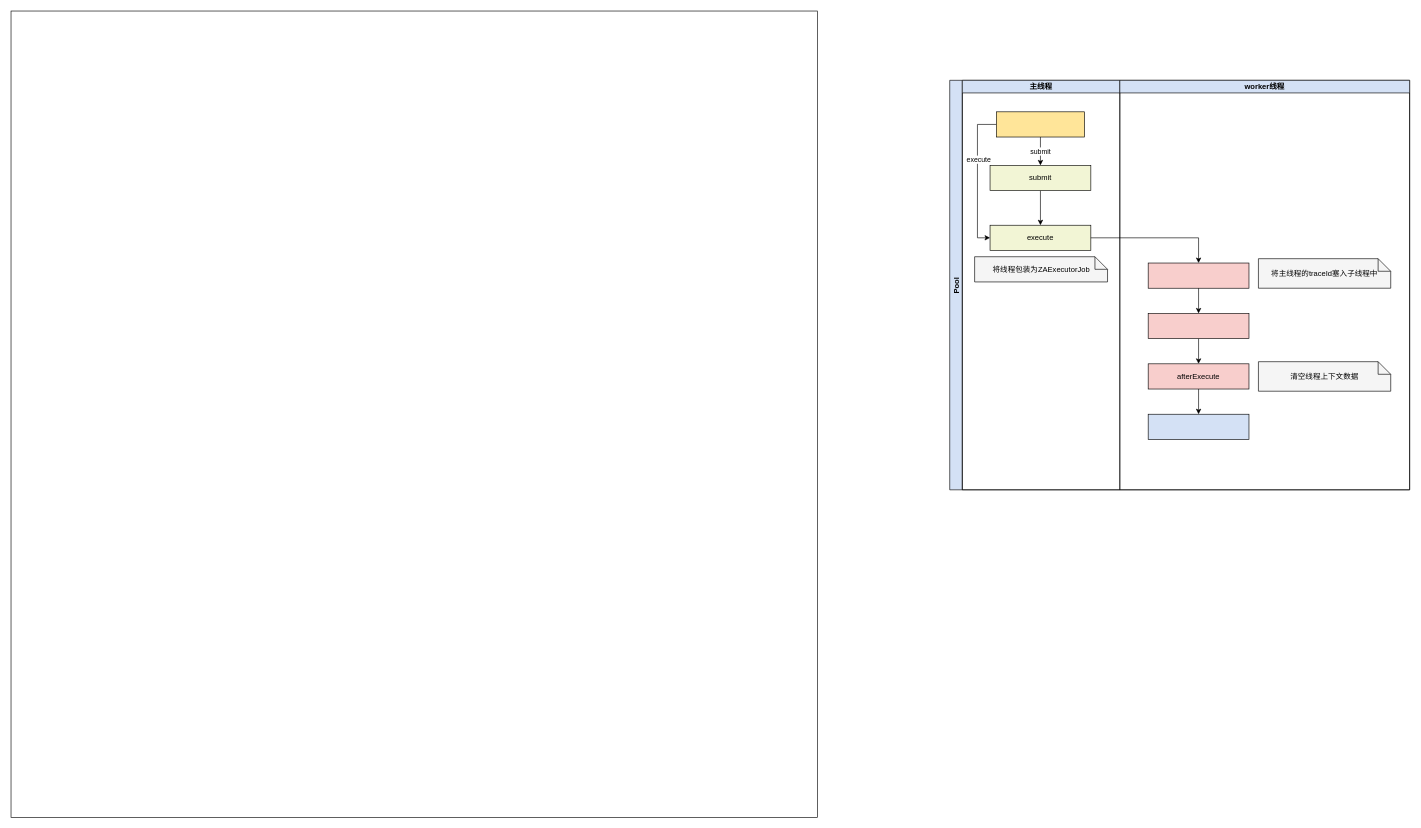
Image size: 1421x828. Some labels were removed from this diagram. Here are the shapes that lost their labels. From the top down, the centre of each, then its label:
At point (1040, 124): "执行线程池的接口".
At point (1198, 275): "beforeExecute".
At point (1198, 326): "run".
At point (1198, 426): "结束".
